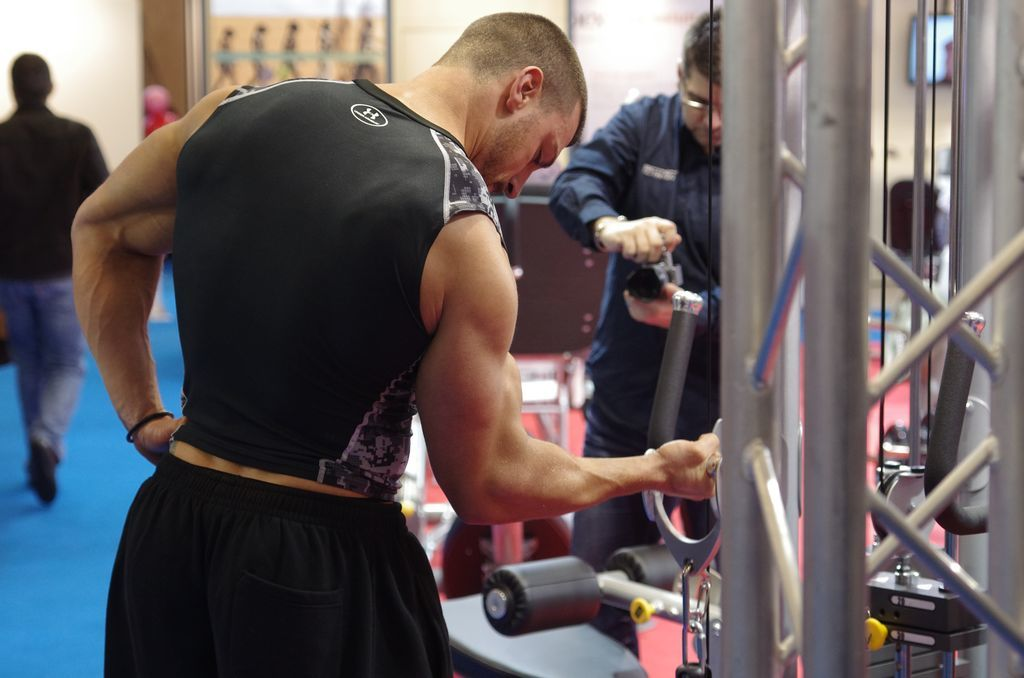face: (678, 62, 757, 147)
